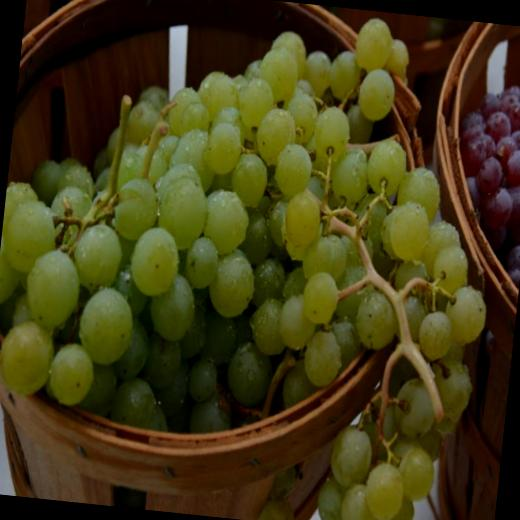Orange: (0, 0, 515, 520), (443, 73, 520, 286)
